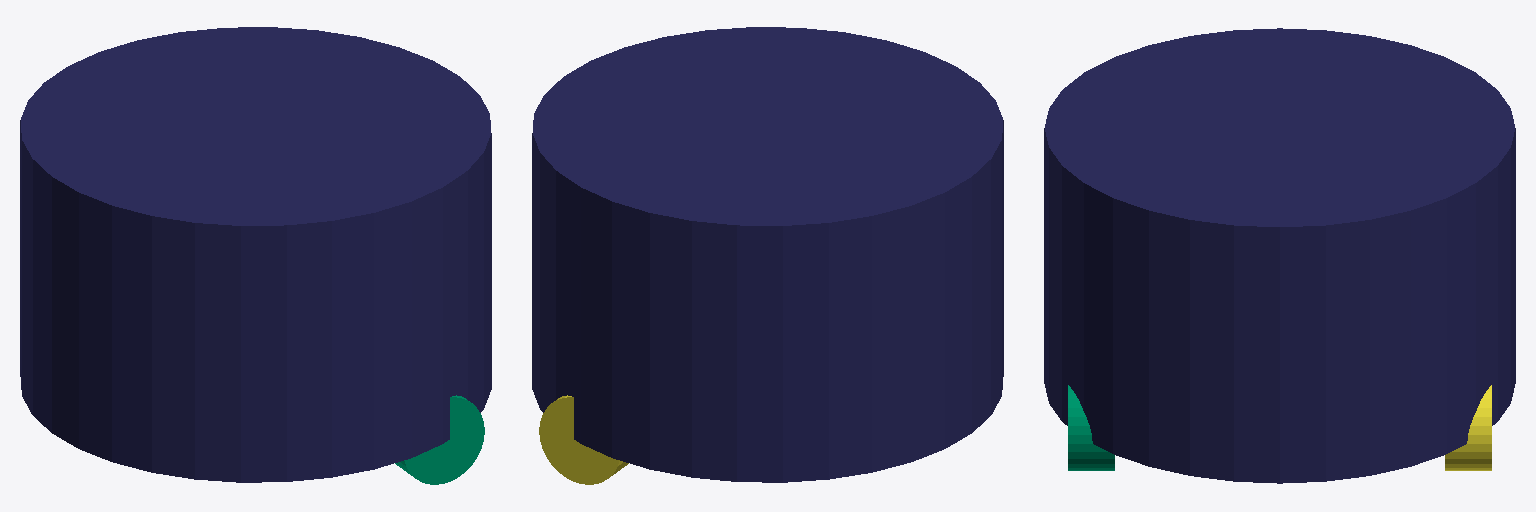
The robot description file, URDF, robot "my_rb1_robot":
<?xml version="1.0"?>
<robot name="my_rb1_robot">


    <!--%%%%%%%%%%%%%%%%%%%%%%%%%%%%%%%%%%%%%%%%%%%%%%%%%%%%%%%%%%%%%%%%%%%%%%%%%%%%%%%%%%%%%%%%%%%%%%%%%%%%%-->

    <!--Set Gazebo Colors-->
    <gazebo reference="base_link">
        <material>Gazebo/Black</material>
    </gazebo>
    <gazebo reference="link_front_caster_wheel">
        <material>Gazebo/Grey</material>
    </gazebo>
    <gazebo reference="link_back_caster_wheel">
        <material>Gazebo/Grey</material>
    </gazebo>

    
    <!--This will make the SDF conversion to keep links binded with FIXED JOINTS separate.-->
    <gazebo reference="base_link_front_caster_wheel">
        <preserveFixedJoint>true</preserveFixedJoint>
    </gazebo>
    <gazebo reference="base_link_back_caster_wheel">
        <preserveFixedJoint>true</preserveFixedJoint>
    </gazebo>
    <!-- <gazebo reference="front_laser_joint">
        <preserveFixedJoint>true</preserveFixedJoint>
    </gazebo> -->

    <!--Friction added here-->

    <gazebo reference="link_front_caster_wheel">
        <material>Gazebo/Grey</material>
        <mu1>0</mu1>
        <mu2>0</mu2>
    </gazebo>
    <gazebo reference="link_back_caster_wheel">
        <material>Gazebo/Grey</material>
        <mu1>0</mu1>
        <mu2>0</mu2>
    </gazebo>
    <gazebo reference="left_wheel">
        <material>Gazebo/Grey</material>
        <mu1>1</mu1>
        <mu2>1</mu2>
    </gazebo>
    <gazebo reference="right_wheel">
        <material>Gazebo/Grey</material>
        <mu1>1</mu1>
        <mu2>1</mu2>
    </gazebo>

    <!--%%%%%%%%%%%%%%%%%%%%%%%%%%%%%%%%%%%%%%%%%%%%%%%%%%%%%%%%%%%%%%%%%%%%%%%%%%%%%%%%%%%%%%%%%%%%%%%%%%%%%-->
    <!-- BASE FOOTPRINT -->

    <link name="base_footprint">
        <visual>
            <origin xyz="0 0 0" rpy="0 0 0" />
            <geometry>
                <box size="0.001 0.001 0.001" />
            </geometry>
        </visual>
    </link>

    <joint name="base_footprint_joint" type="fixed">
        <origin xyz="0 0 0.15" rpy="0 0 0" />
        <parent link="base_footprint"/>
        <child link="base_link" />
    </joint>


  <!-- BASE_LINK -->
    <link name="base_link">
        <inertial>
            <mass value="25.0" />
            <origin xyz="0 0 0" />
            <inertia  ixx="1.75" ixy="0.0"  ixz="0.0"  iyy="1.75"  iyz="0.0"  izz="3.125" />
        </inertial>
        <collision>
            <origin xyz="0 0 0" rpy="0 0 0" />
            <geometry>
                <cylinder length="0.3" radius="0.25" />
            </geometry>
        </collision>
        <visual>
            <origin xyz="0 0 0" rpy="0 0 0" />
            <geometry>
                <cylinder length="0.3" radius="0.25" />
            </geometry>
            <material name="DarkBlue">
                <color rgba="0.2 0.2 0.4 1"/>
            </material>
        </visual>
    </link>



    <!-- Joint - base_link / left wheel -->
    <joint name="joint_base_link_left_wheel" type="continuous">
        <origin rpy="0 0 0" xyz="0.1 -0.2 -0.15" />
        <child link="left_wheel" />
        <parent link="base_link" />
        <axis rpy="0 0 0" xyz="0 1 0" />
        <limit effort="10000" velocity="1000" />
        <joint_properties damping="1.0" friction="1.0" />
    </joint>

    <!-- Link - left wheel -->


    <link name="left_wheel">
        <inertial>
            <mass value="1" />
            <origin xyz="0 0 0" rpy="0 0 0" />
            <inertia ixx="0.00020833333333333337" ixy="0" ixz="0" iyy="0.00020833333333333337" iyz="0" izz="0.00031250000000000006"/>
        </inertial>

        <collision>
            <origin rpy="1.5707 0 0" xyz="0 0 0" />
            <geometry>
                <cylinder length="0.05" radius="0.05"/>
            </geometry>
        </collision>
        <visual>
            <origin rpy="1.5707 0 0" xyz="0 0 0" />
            <geometry>
                <cylinder length="0.05" radius="0.05"/>
            </geometry>
        </visual>
    </link>
 

    <!-- Joint - base_link / right wheel -->
    <joint name="joint_base_link_right_wheel" type="continuous">
        <origin rpy="0 0 0" xyz="0.1 0.2 -0.15" />
        <child link="right_wheel" />
        <parent link="base_link" />
        <axis rpy="0 0 0" xyz="0 1 0" />
        <limit effort="10000" velocity="1000" />
        <joint_properties damping="1.0" friction="1.0" />
    </joint>

    <!-- Link - right wheel -->


    <link name="right_wheel">
        <inertial>
            <mass value="1" />
            <origin xyz="0 0 0" rpy="0 0 0" />
            <inertia ixx="0.00020833333333333337" ixy="0" ixz="0" iyy="0.00020833333333333337" iyz="0" izz="0.00031250000000000006"/>
        </inertial>

        <collision>
            <origin rpy="1.5707 0 0" xyz="0 0 0" />
            <geometry>
                <cylinder length="0.05" radius="0.05"/>
            </geometry>
        </collision>
        <visual>
            <origin rpy="1.5707 0 0" xyz="0 0 0" />
            <geometry>
                <cylinder length="0.05" radius="0.05"/>
            </geometry>
        </visual>
    </link>

    <!-- Joint - front caster wheel -->
    <joint name="base_link_front_caster_wheel" type="fixed">
        <origin rpy="0 0 0" xyz="0.1 0 -0.135" />
        <child link="link_front_caster_wheel" />
        <parent link="base_link" />
        <joint_properties damping="1.0" friction="1.0" />
    </joint>

 <!-- Link - front caster wheel -->
    <link name="link_front_caster_wheel">
        <inertial>
            <mass value="1" />
            <origin xyz="0 0 0" rpy="0 0 0" />
            <inertia ixx="0.0006315" ixy="0" ixz="0" iyy="0.0006315" iyz="0" izz="0.00125"/>
        </inertial>

        <!-- Front Caster wheel support -->
        <collision>
            <origin rpy="0 0 0" xyz="0 0 0" />
            <geometry>
                <sphere radius="0.05" />
            </geometry>
        </collision>
        <visual>
            <origin rpy="0 0 0" xyz="0 0 0" />
            <geometry>
                <sphere radius="0.05" />
            </geometry>
            <material name="DarkBlue">
                <color rgba="0.2 0.2 0.4 1" />
            </material>
        </visual>

        <!-- Front Caster wheel -->
        <collision>
            <origin rpy="0 0 0" xyz="0 0 -0.04" />
            <geometry>
                <sphere radius="0.025" />
            </geometry>
        </collision>
        <visual>
            <origin rpy="0 0 0" xyz="0 0 -0.04" />
            <geometry>
                <sphere radius="0.025" />
            </geometry>
            <material name="Grey">
                <color rgba="0.6 0.6 0.6 1" />
            </material>
        </visual>

        <gazebo reference="link_front_caster_wheel">
            <material>Gazebo/Grey</material>
        </gazebo>
    </link>
    <!-- Joint - back caster wheel -->
    <joint name="base_link_back_caster_wheel" type="fixed">
        <origin rpy="0 0 0" xyz="-0.1 0 -0.135" />
        <child link="link_back_caster_wheel" />
        <parent link="base_link" />
        <joint_properties damping="1.0" friction="1.0" />
    </joint>

 <!-- Link - back caster wheel -->
    <link name="link_back_caster_wheel">
        <inertial>
            <mass value="1" />
            <origin xyz="0 0 0" rpy="0 0 0" />
            <inertia ixx="0.0006315" ixy="0" ixz="0" iyy="0.0006315" iyz="0" izz="0.00125"/>
        </inertial>

        <!-- Back Caster wheel support -->
        <collision>
            <origin rpy="0 0 0" xyz="0 0 0" />
            <geometry>
                <sphere radius="0.05" />
            </geometry>
        </collision>
        <visual>
            <origin rpy="0 0 0" xyz="0 0 0" />
            <geometry>
                <sphere radius="0.05" />
            </geometry>
            <material name="DarkBlue">
                <color rgba="0.2 0.2 0.4 1" />
            </material>
        </visual>

        <!-- Back Caster wheel -->
        <collision>
            <origin rpy="0 0 0" xyz="0 0 -0.04" />
            <geometry>
                <sphere radius="0.025" />
            </geometry>
        </collision>
        <visual>
            <origin rpy="0 0 0" xyz="0 0 -0.04" />
            <geometry>
                <sphere radius="0.025" />
            </geometry>
            <material name="Grey">
                <color rgba="0.6 0.6 0.6 1" />
            </material>
        </visual>

        <gazebo reference="link_back_caster_wheel">
            <material>Gazebo/Grey</material>
        </gazebo>
    </link>
    <!-- FRONT LASER -->

    <link name="front_laser">
        <visual>
            <origin xyz="0 0 0" rpy="0 0 0" />
            <geometry>
                <box size="0.001 0.001 0.001" />
            </geometry>
        </visual>
    </link>

    <joint name="front_laser_joint" type="fixed">
        <origin xyz="0.25 0 0.075" rpy="3.14159265359 0 0" />
        <parent link="base_link"/>
        <child link="front_laser" />
    </joint>


</robot>

--- Render facts (derived) ---
The picture shows the robot from 3 angles, left to right: view 1: azimuth 30°, elevation 25°; view 2: azimuth 150°, elevation 25°; view 3: azimuth 270°, elevation 25°; orthographic projection.
Model my_rb1_robot with 7 links and 6 joints (2 continuous, 4 fixed), rooted at base_footprint, posed every joint at zero.
Links seen in each view (by area): view 1: base_link, left_wheel; view 2: base_link, right_wheel; view 3: base_link, left_wheel, right_wheel.
Link boxes in pixels (bbox=[...]): base_link: bbox=[20, 27, 491, 482]; left_wheel: bbox=[395, 395, 484, 484]; base_link: bbox=[532, 27, 1003, 482]; right_wheel: bbox=[539, 395, 628, 484]; base_link: bbox=[1044, 28, 1515, 483]; left_wheel: bbox=[1068, 385, 1114, 470]; right_wheel: bbox=[1445, 385, 1491, 470].
Bounding box of the posed robot: 0.5005 × 0.5 × 0.35 m (x, y, z).
Geometry: primitives only (box / cylinder / sphere), no mesh files.